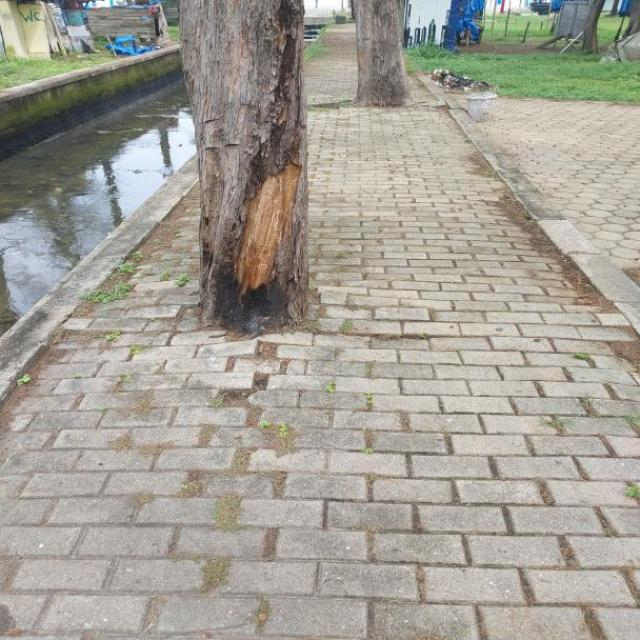tree ahead at: (164, 2, 325, 324), (352, 0, 412, 104)
